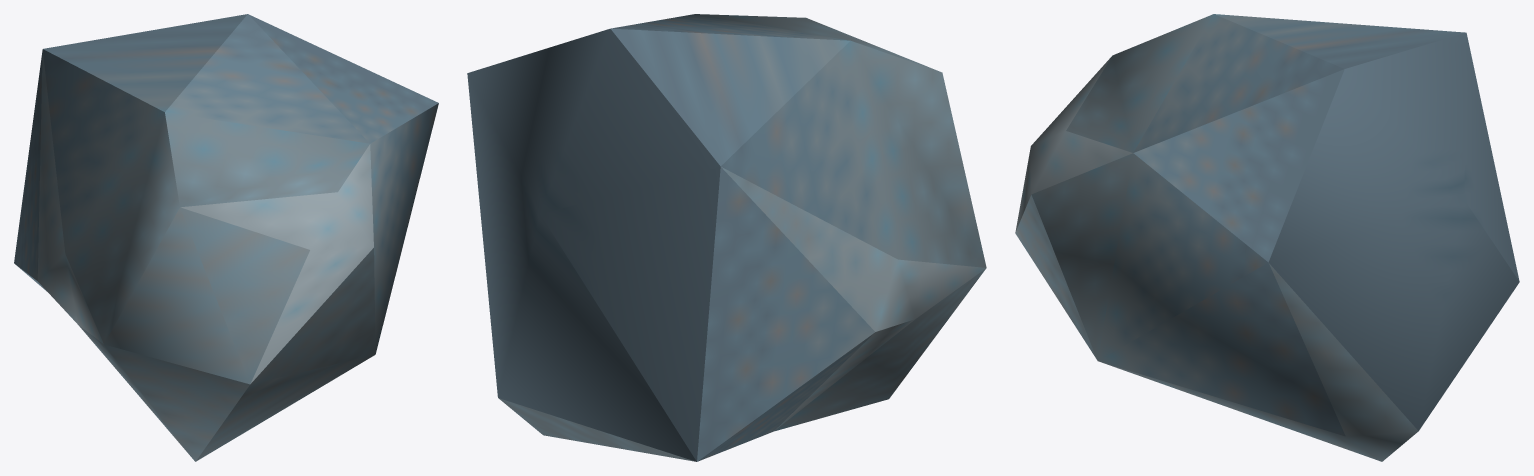
Rendered from Iron_Nugget_Small.gltf.
The picture shows the model from 3 angles, left to right: view 1: azimuth 30°, elevation 25°; view 2: azimuth 150°, elevation 25°; view 3: azimuth 270°, elevation 25°; orthographic projection. The views are drawn at different scales.
Parts seen in each view (by area): view 1: Iron_Nugget_Small; view 2: Iron_Nugget_Small; view 3: Iron_Nugget_Small.
Part boxes in pixels (<box>): Iron_Nugget_Small: <box>14,14,438,461</box>; Iron_Nugget_Small: <box>467,14,986,461</box>; Iron_Nugget_Small: <box>1015,14,1519,461</box>.
Size of the model in its own units: 0.1411 by 0.1204 by 0.1461.
Materials: 1 (1 with a texture image).
